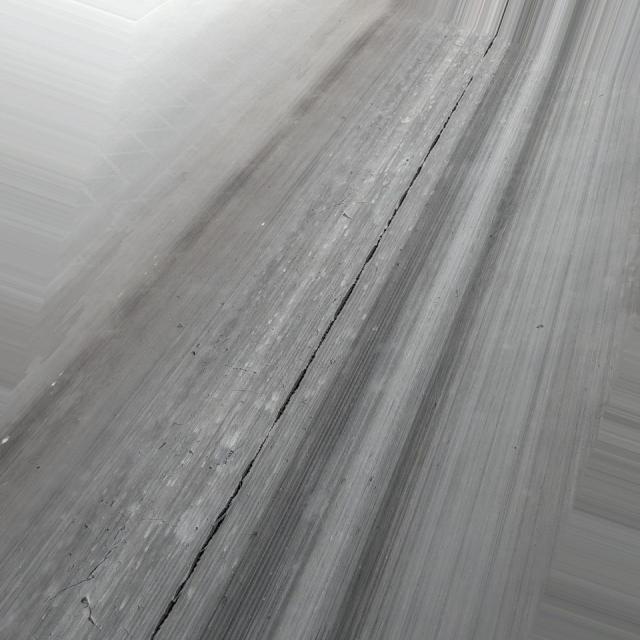Tear: (145, 0, 506, 637)
